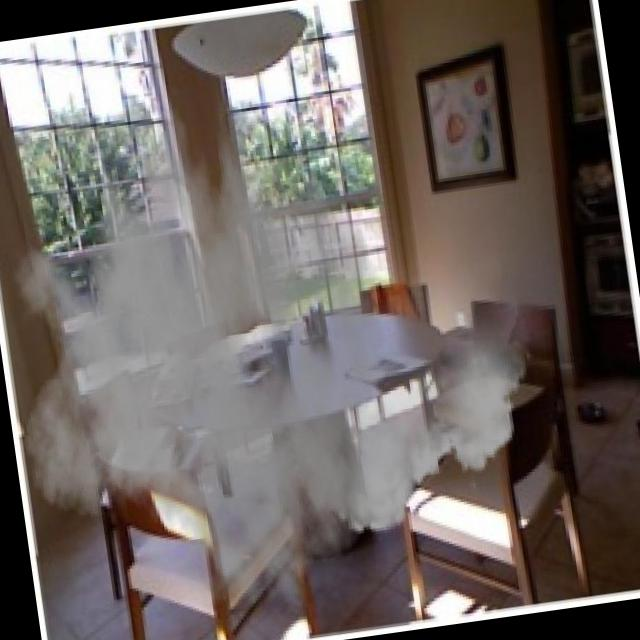Smoke: (0, 31, 564, 640)
